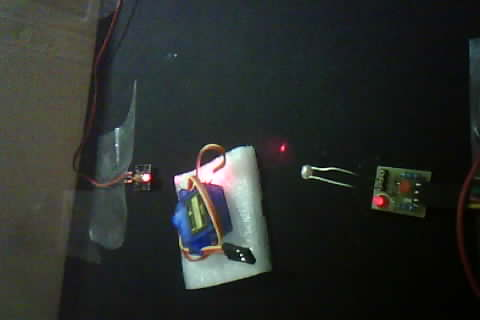motor: (163, 137, 266, 276)
